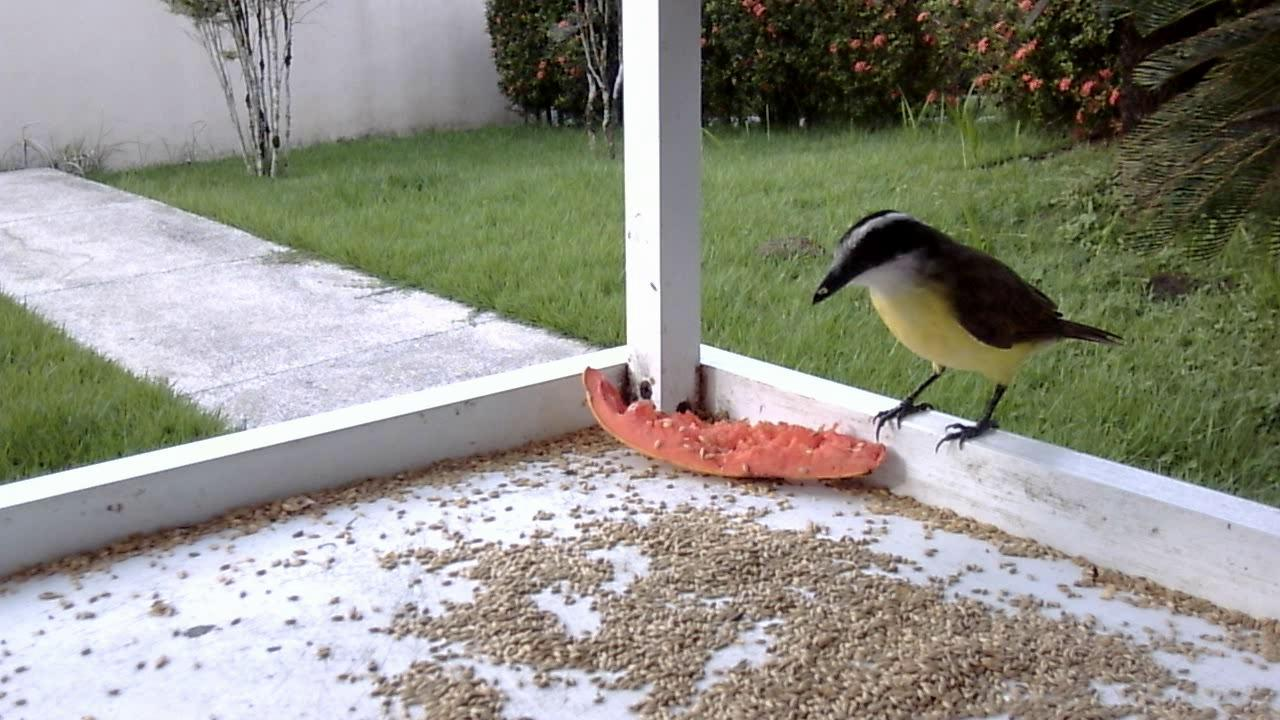bem_te_vi: (798, 202, 1128, 472)
